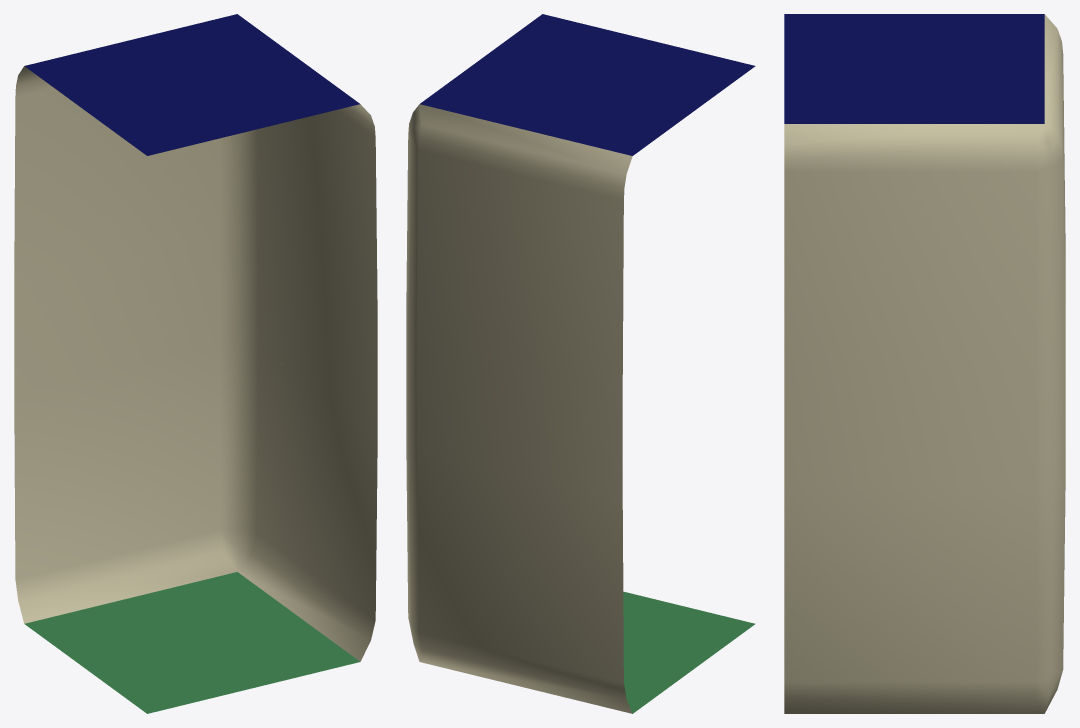
The model's file is ModuleSC_F_corner_01.FBX.
The picture shows the model from 3 angles, left to right: view 1: azimuth 30°, elevation 25°; view 2: azimuth 150°, elevation 25°; view 3: azimuth 270°, elevation 25°; orthographic projection. The views are drawn at different scales.
Visible parts, largest first — view 1: F_wall_05 (×2), ModuleSCs_F_wall_03, ModuleSCs_B_floor_021, F_roof_09; view 2: F_wall_05 (×2), F_roof_09, ModuleSCs_F_wall_03, ModuleSCs_B_floor_021; view 3: F_wall_05 (×2), ModuleSCs_F_wall_03, F_roof_09.
Boxes of the visible parts, <box> form: F_wall_05 (×2): <box>14,66,377,661</box>; ModuleSCs_F_wall_03: <box>14,231,377,434</box>; ModuleSCs_B_floor_021: <box>24,572,359,713</box>; F_roof_09: <box>24,14,359,155</box>; F_wall_05 (×2): <box>406,104,632,713</box>; F_roof_09: <box>420,14,755,155</box>; ModuleSCs_F_wall_03: <box>406,321,622,497</box>; ModuleSCs_B_floor_021: <box>623,591,755,713</box>; F_wall_05 (×2): <box>784,14,1065,713</box>; ModuleSCs_F_wall_03: <box>784,356,1065,486</box>; F_roof_09: <box>784,14,1044,123</box>.
Bounding box in the file's own units: 42.55 × 98.43 × 42.55.
